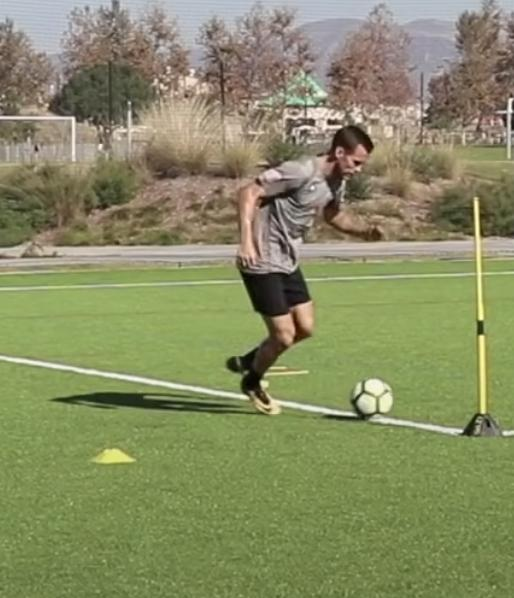ball: (351, 378, 393, 418)
foot: (238, 376, 281, 418)
person: (227, 125, 382, 415)
